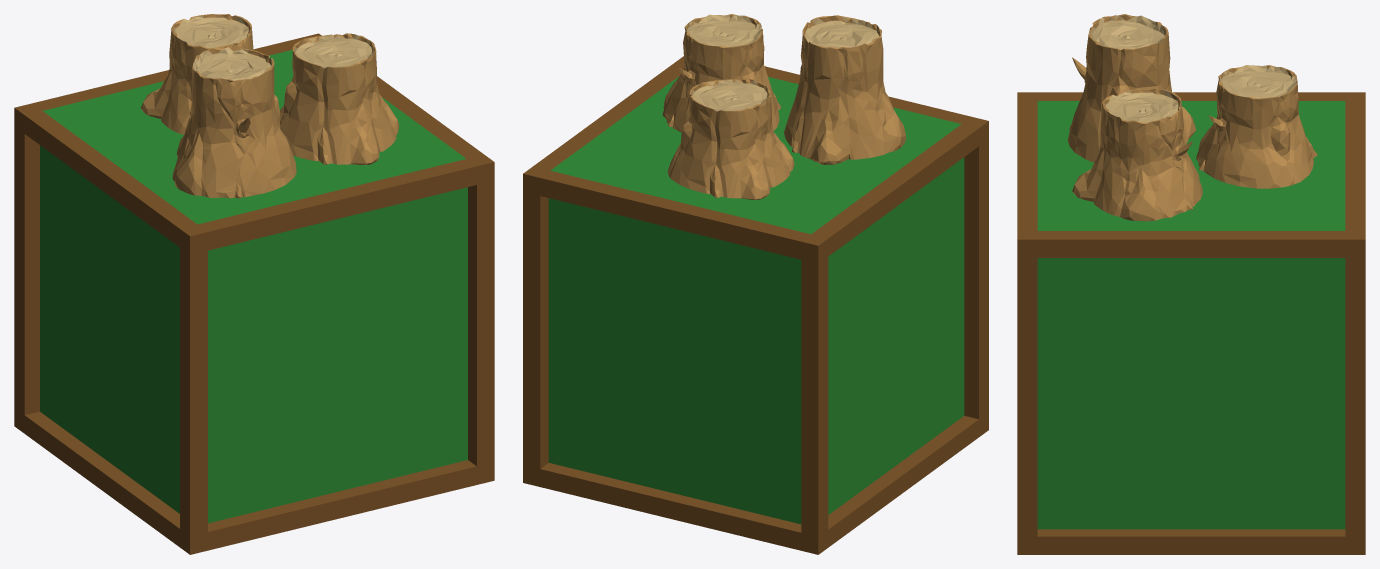
File: Stump_Tile.fbx
3 renders of one model, left to right at view 1: azimuth 30°, elevation 25°; view 2: azimuth 150°, elevation 25°; view 3: azimuth 270°, elevation 25°, orthographic. The views are drawn at different scales.
Visible parts, largest first — view 1: platform.005; view 2: platform.005; view 3: platform.005.
Boxes of the visible parts, x1=… form: platform.005: x1=14, y1=14, x2=494, y2=554; platform.005: x1=523, y1=14, x2=988, y2=554; platform.005: x1=1017, y1=14, x2=1365, y2=554.
Size of the model in its own units: 200 by 269 by 200.
